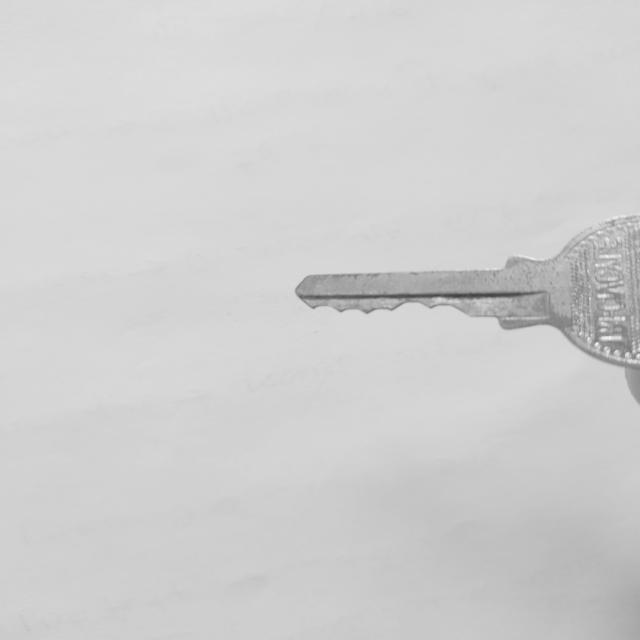KEY: (296, 215, 640, 370)
